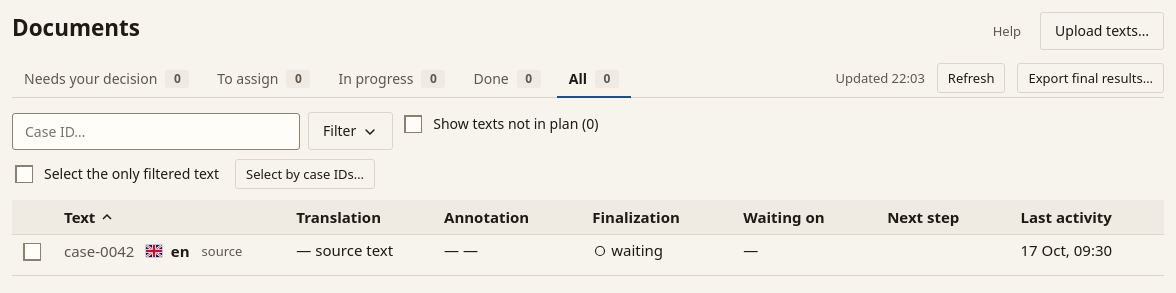
Test: search debounces 300 ms, also on Enter and blur, clear button
Type "c" into the search field named "Search by case ID" at coordinates (156, 131), box [12,112,300,150]
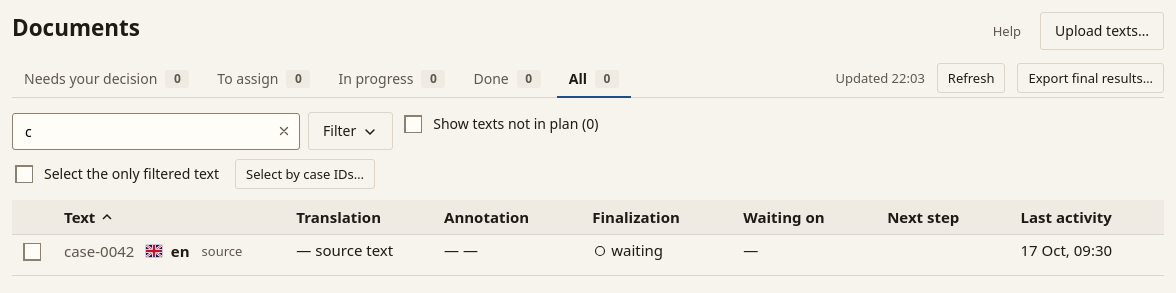
Replace the text in the search field named "Search by case ID" with "ca" at coordinates (156, 131), box [12,112,300,150]
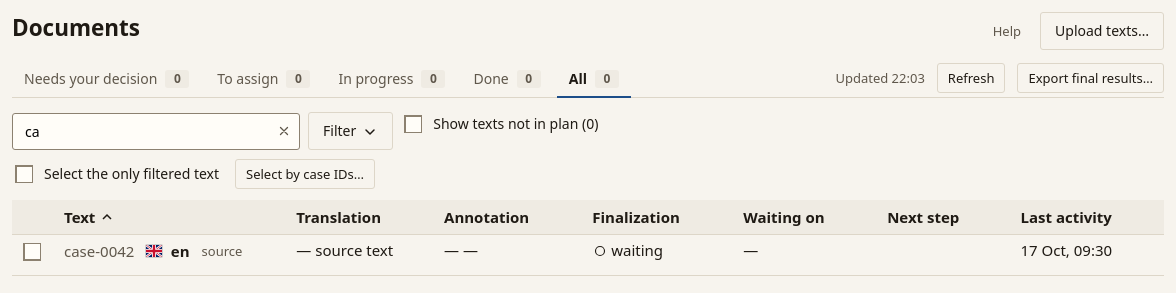
Replace the text in the search field named "Search by case ID" with "cas" at coordinates (156, 131), box [12,112,300,150]
Wait 300 ms
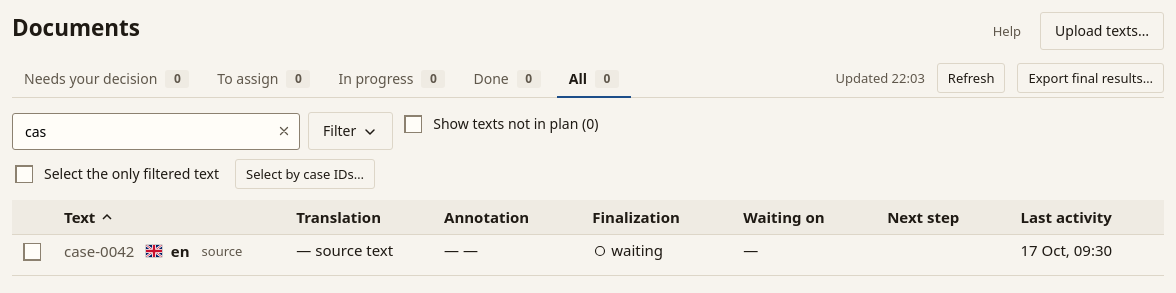
Replace the text in the search field named "Search by case ID" with "case-104 de" at coordinates (156, 131), box [12,112,300,150]
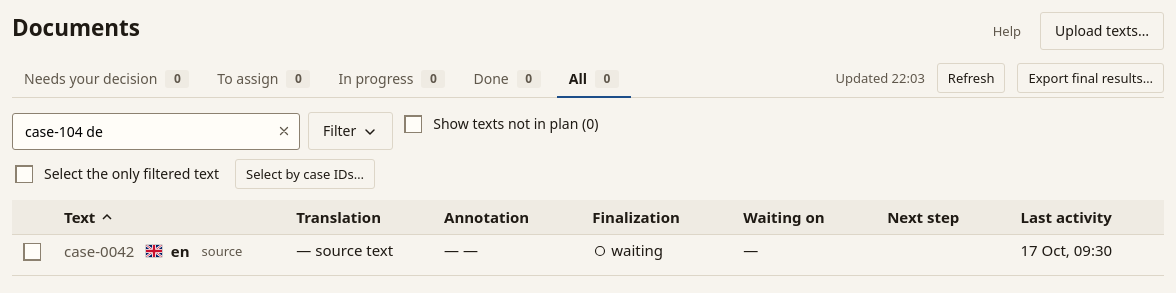
Press Enter in the search field named "Search by case ID", box [12,112,300,150]
Replace the text in the search field named "Search by case ID" with "case-+/" at coordinates (156, 131), box [12,112,300,150]
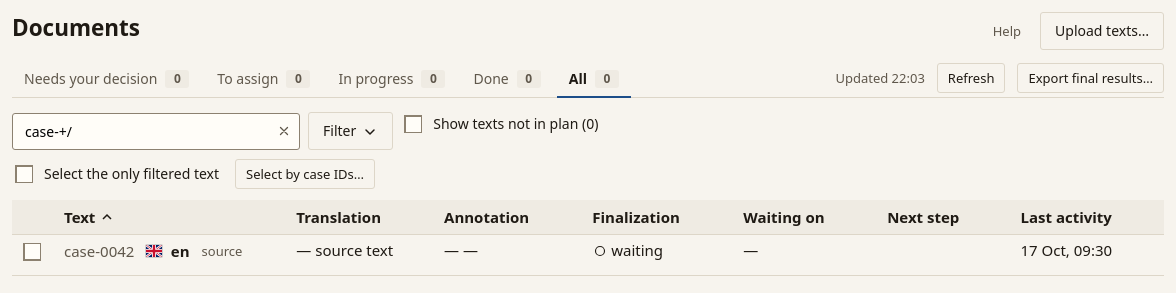
Click the button named "Clear search" at coordinates (284, 131), box [270,118,298,144]
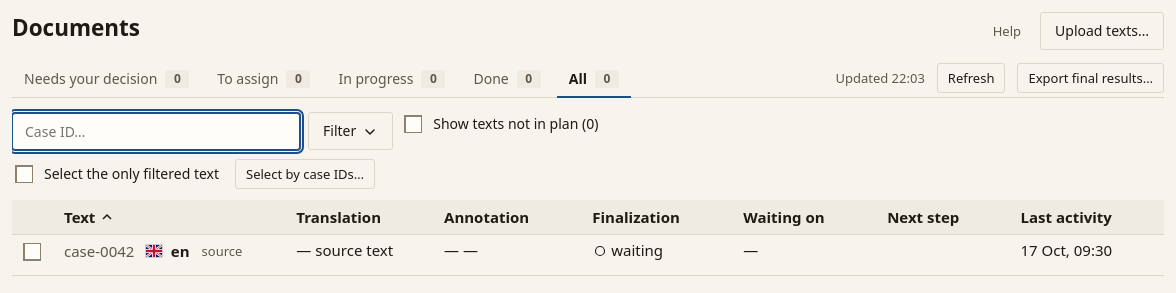
Now the search field named "Search by case ID" is empty, box [12,112,300,150]
